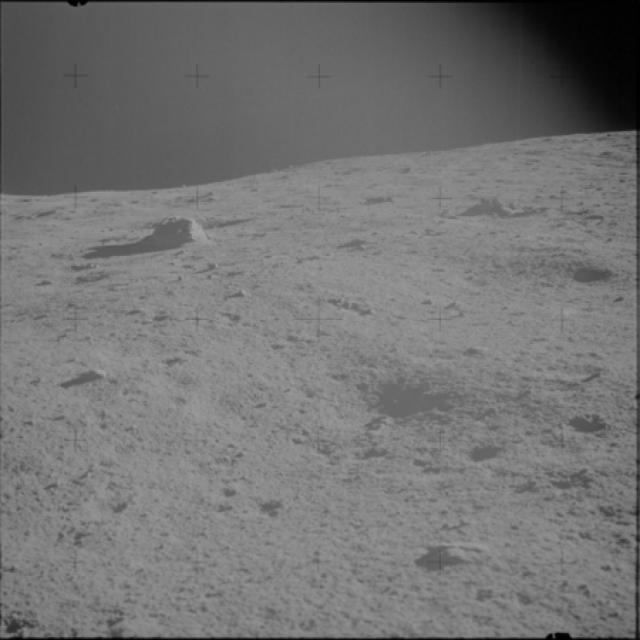crater: (328, 366, 478, 432), (551, 404, 613, 444), (562, 258, 623, 294), (437, 438, 499, 473)
rock: (136, 210, 215, 260), (420, 534, 490, 570), (469, 188, 514, 224), (74, 364, 115, 396), (343, 232, 379, 261)
